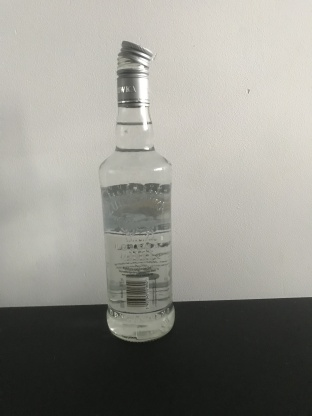nakretka: (114, 37, 153, 108)
